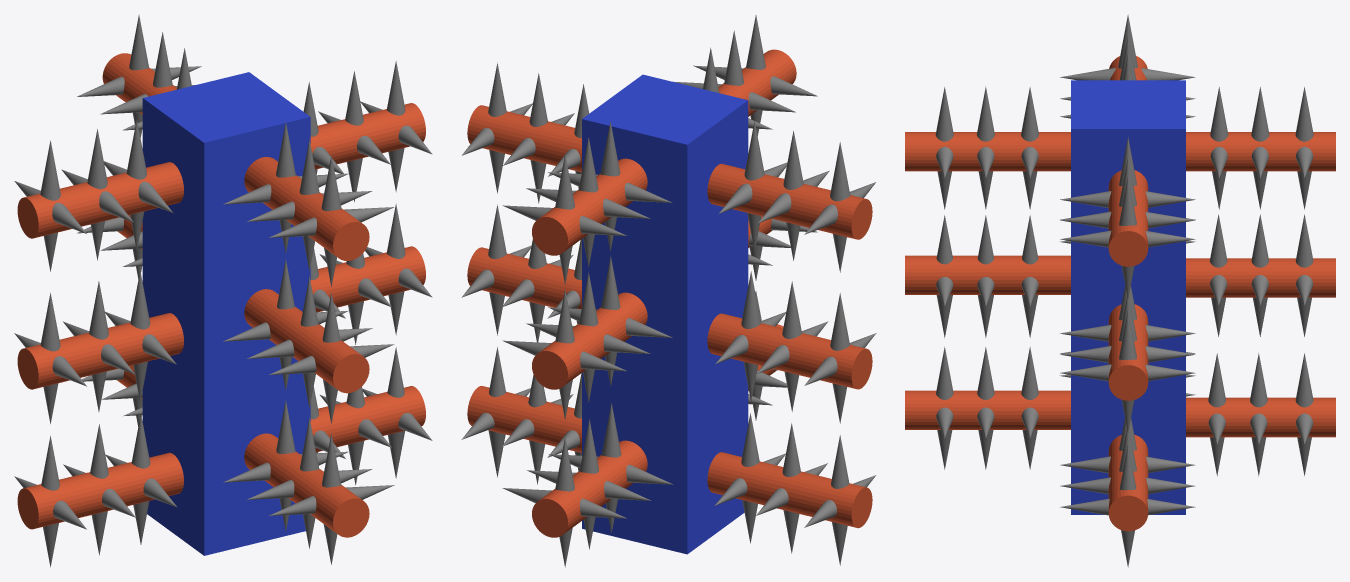
The model's file is deathspikeblue.obj.
3 renders of one model, left to right at view 1: azimuth 30°, elevation 25°; view 2: azimuth 150°, elevation 25°; view 3: azimuth 270°, elevation 25°, orthographic. The views are drawn at different scales.
Parts seen in each view (by area): view 1: Cube, Cylinder.002, Cylinder.001, Cylinder, Cylinder.007, Cylinder.008, Cylinder.006, Cylinder.005, Cylinder.003, Cylinder.004, Cone.028, Cone.036 (+28 smaller); view 2: Cube, Cylinder.002, Cylinder.001, Cylinder, Cylinder.010, Cylinder.011, Cylinder.009, Cylinder.005, Cylinder.003, Cylinder.004, Cylinder.006, Cone.019 (+29 smaller); view 3: Cube, Cylinder.007, Cylinder.008, Cylinder.006, Cylinder.011, Cylinder.010, Cylinder.009, Cylinder.005, Cylinder.003, Cylinder.004, Cone.013, Cone.016 (+26 smaller).
Boxes of the visible parts, <box> form: Cube: <box>142,72,310,555</box>; Cylinder.002: <box>17,452,183,529</box>; Cylinder.001: <box>17,313,183,389</box>; Cylinder: <box>17,162,183,238</box>; Cylinder.007: <box>244,289,369,393</box>; Cylinder.008: <box>244,433,369,537</box>; Cylinder.006: <box>244,157,369,260</box>; Cylinder.005: <box>310,386,425,452</box>; Cylinder.003: <box>310,103,425,169</box>; Cylinder.004: <box>310,246,425,312</box>; Cone.028: <box>269,155,394,287</box>; Cone.036: <box>269,433,394,564</box>; Cube: <box>582,74,748,554</box>; Cylinder.002: <box>707,452,872,528</box>; Cylinder.001: <box>707,313,872,389</box>; Cylinder: <box>707,163,872,239</box>; Cylinder.010: <box>532,292,647,389</box>; Cylinder.011: <box>532,440,647,537</box>; Cylinder.009: <box>532,158,647,255</box>; Cylinder.005: <box>467,386,581,452</box>; Cylinder.003: <box>467,105,581,172</box>; Cylinder.004: <box>467,247,581,308</box>; Cylinder.006: <box>718,49,796,116</box>; Cone.019: <box>502,154,626,284</box>; Cube: <box>1071,80,1185,514</box>; Cylinder.007: <box>905,255,1070,294</box>; Cylinder.008: <box>905,390,1070,429</box>; Cylinder.006: <box>905,132,1070,171</box>; Cylinder.011: <box>1186,397,1335,437</box>; Cylinder.010: <box>1186,258,1335,297</box>; Cylinder.009: <box>1186,132,1335,171</box>; Cylinder.005: <box>1108,434,1148,531</box>; Cylinder.003: <box>1108,170,1148,266</box>; Cylinder.004: <box>1108,304,1148,400</box>; Cone.013: <box>1060,310,1195,433</box>; Cone.016: <box>1060,176,1195,299</box>.
Bounding box in the file's own units: 7.28 × 7.91 × 7.5.
1 material, 1 textured.
